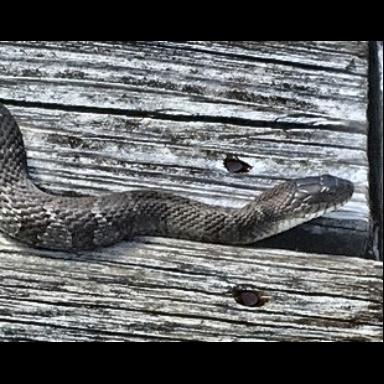snake: (0, 112, 355, 250)
